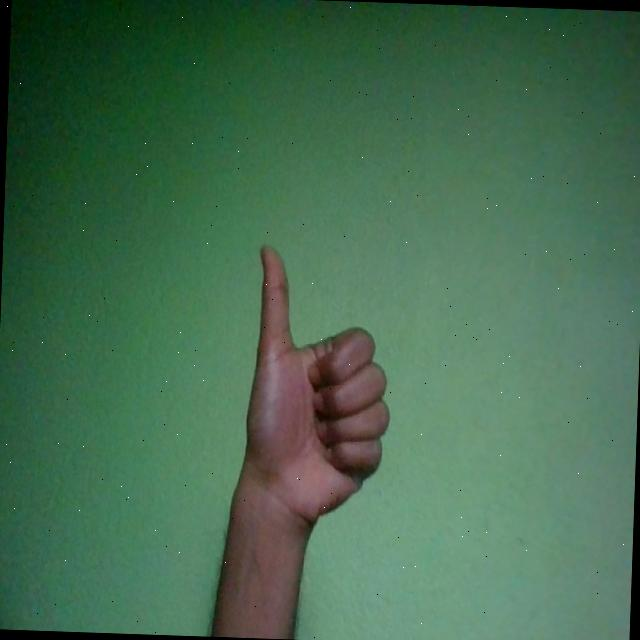Good Job: (242, 242, 396, 532)
